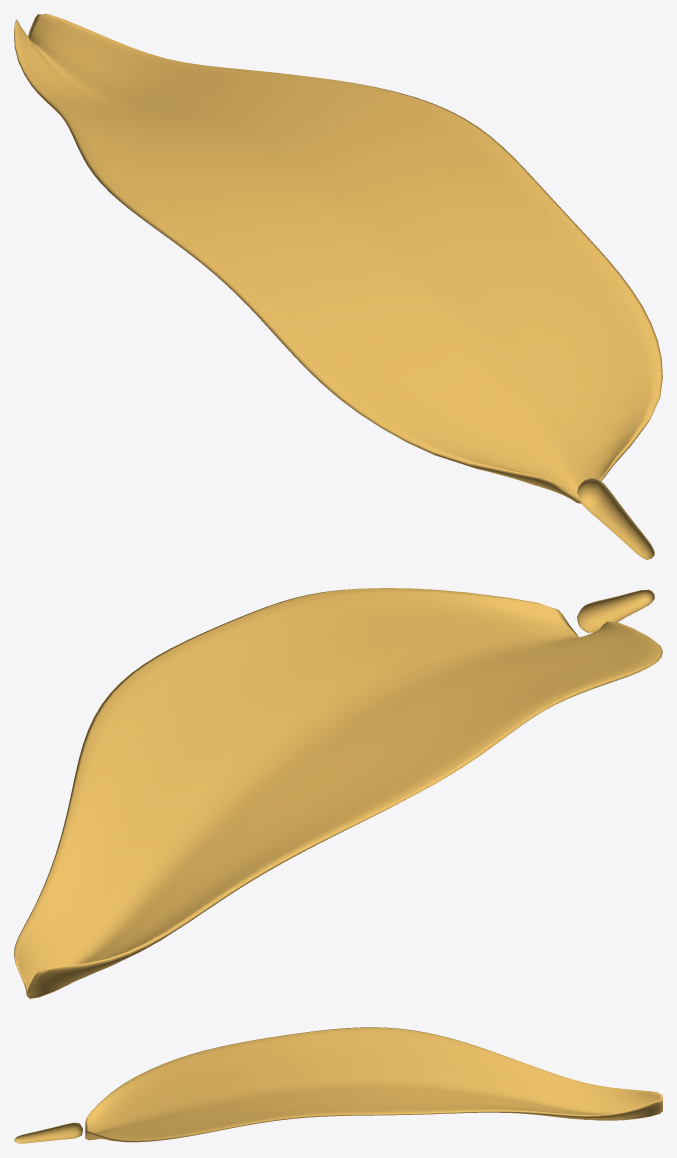
File: autumn_leaf_bridge.glb
The picture shows the model from 3 angles, top to bottom: view 1: azimuth 30°, elevation 25°; view 2: azimuth 150°, elevation 25°; view 3: azimuth 270°, elevation 25°; orthographic projection. The views are drawn at different scales.
Visible parts, largest first — view 1: SM_Forest_AutumnLeafBridge; view 2: SM_Forest_AutumnLeafBridge; view 3: SM_Forest_AutumnLeafBridge.
Part boxes in pixels (left/top/right/bottom): SM_Forest_AutumnLeafBridge: left=14, top=14, right=662, bottom=559; SM_Forest_AutumnLeafBridge: left=14, top=588, right=662, bottom=998; SM_Forest_AutumnLeafBridge: left=14, top=1027, right=662, bottom=1143.
Bounding box in the file's own units: 1.86 × 0.7199 × 5.82.
